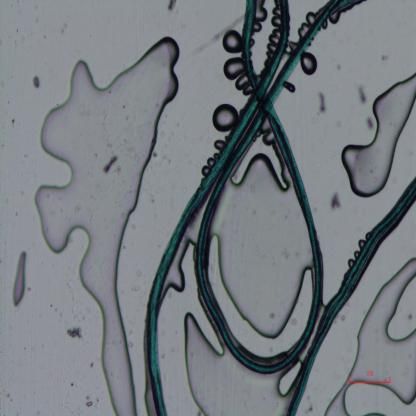Air bubble: (33, 31, 183, 416), (218, 148, 304, 338), (320, 256, 416, 414), (179, 307, 288, 416), (340, 72, 416, 198), (12, 250, 27, 306), (213, 103, 238, 132), (223, 54, 246, 81), (221, 28, 244, 53), (300, 51, 318, 76), (266, 27, 280, 54), (254, 0, 269, 23), (260, 127, 274, 145), (236, 75, 250, 90), (305, 10, 317, 27), (328, 10, 340, 25), (297, 22, 307, 40), (213, 138, 226, 150), (283, 82, 296, 94), (206, 154, 216, 168), (271, 16, 282, 28), (202, 162, 212, 175), (288, 39, 298, 51), (32, 76, 40, 90), (367, 118, 375, 132), (272, 6, 282, 16), (242, 87, 253, 96), (253, 23, 263, 32)
Background material: (102, 156, 118, 174), (65, 327, 84, 341), (316, 92, 327, 114), (329, 193, 344, 208), (358, 86, 368, 104), (84, 396, 95, 408), (304, 405, 317, 415), (166, 0, 176, 12), (379, 51, 389, 61), (405, 312, 412, 322)
Microfibre: (142, 0, 364, 416), (287, 177, 416, 416)
